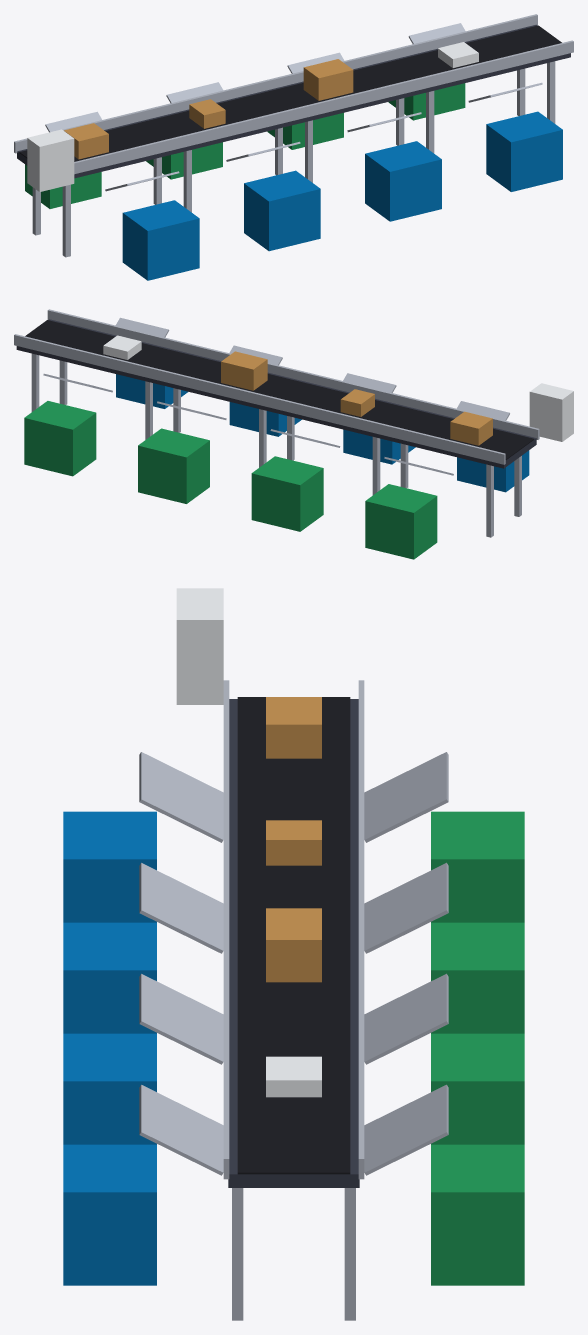
Rendered from lgx-003.glb.
3 views of the same model, one above another, from view 1: azimuth 30°, elevation 25°; view 2: azimuth 150°, elevation 25°; view 3: azimuth 270°, elevation 25° (orthographic). The views are drawn at different scales.
Visible parts, largest first — view 1: safety_blue, steel, rubber, safety_green, pastry, white, dark_steel; view 2: safety_green, steel, rubber, safety_blue, pastry, dark_steel, white; view 3: steel, rubber, safety_green, safety_blue, dark_steel, pastry, white.
Part boxes in pixels (left/top/right/bottom): safety_blue: left=122, top=111, right=562, bottom=280; steel: left=14, top=14, right=573, bottom=257; rubber: left=19, top=25, right=561, bottom=161; safety_green: left=25, top=83, right=465, bottom=208; pastry: left=64, top=59, right=353, bottom=159; white: left=27, top=42, right=478, bottom=191; dark_steel: left=17, top=24, right=570, bottom=178; safety_green: left=24, top=401, right=437, bottom=559; steel: left=14, top=309, right=539, bottom=537; rubber: left=25, top=320, right=534, bottom=459; safety_blue: left=116, top=374, right=529, bottom=492; pastry: left=221, top=351, right=492, bottom=445; dark_steel: left=16, top=319, right=536, bottom=468; white: left=103, top=335, right=573, bottom=441; steel: left=139, top=680, right=448, bottom=1320; rubber: left=237, top=697, right=350, bottom=1174; safety_green: left=431, top=811, right=524, bottom=1285; safety_blue: left=63, top=811, right=156, bottom=1285; dark_steel: left=228, top=699, right=359, bottom=1187; pastry: left=266, top=697, right=321, bottom=982; white: left=176, top=588, right=321, bottom=1097.
Bounding box in the file's own units: 6.32 × 1.45 × 2.46.
